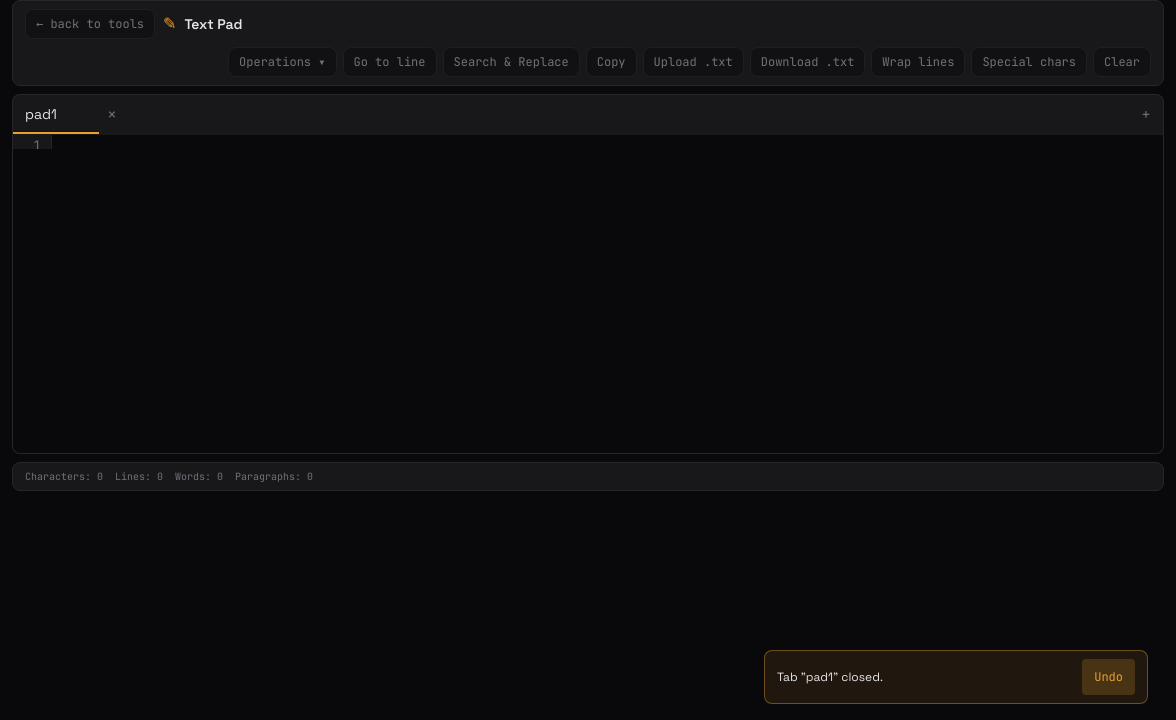
Test: TextPadView › keeps one persisted replacement after repeated close of the last tab
The image size is (1176, 720).
Expected: the element with class "cm-editor" is shown, 13,135 -> 1163,184
Click the button named "New tab". click: click(1146, 115)
box: 1129,95 -> 1163,135
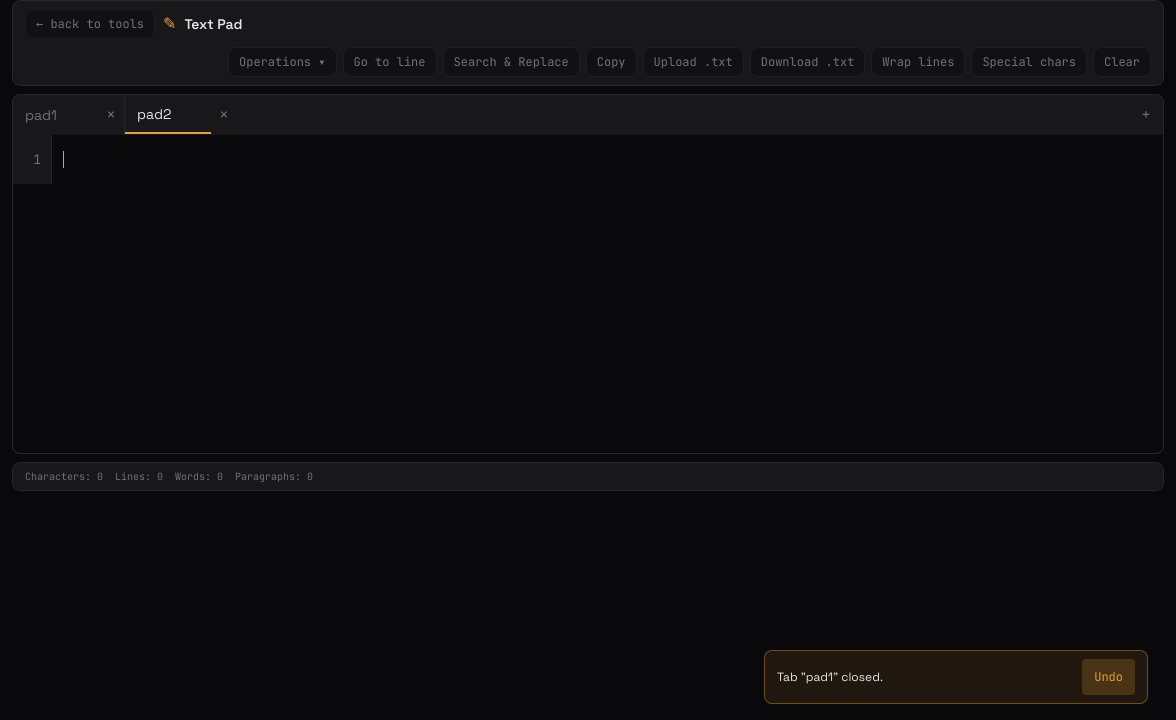
Expected: the text "pad2" is shown, 137,105 -> 171,123
